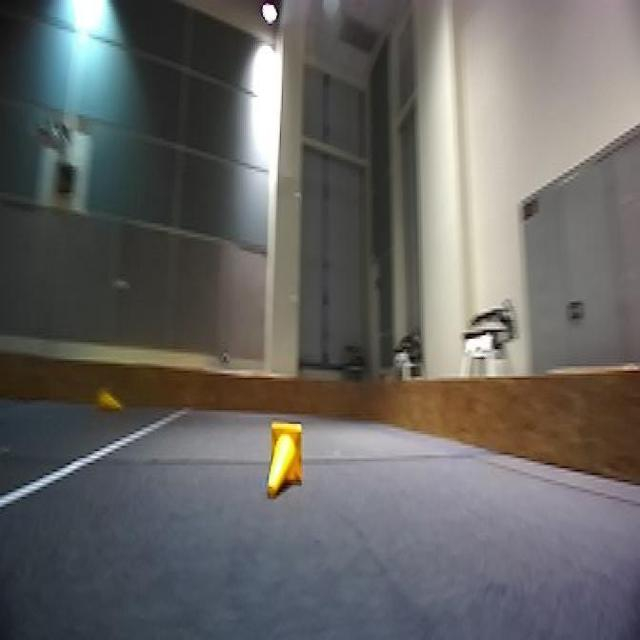frc_cone: (266, 419, 304, 497), (92, 381, 122, 414)
